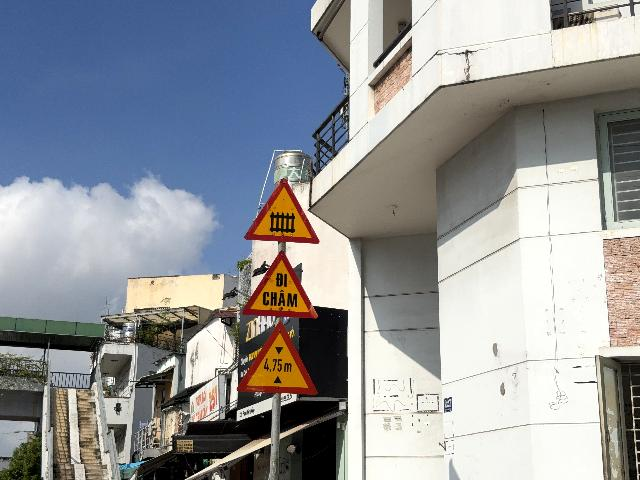chieu-cao-tinh-khong-thuc-te: (237, 320, 318, 395)
di-cham: (242, 250, 317, 319)
noi-giao-nhau-voi-duong-sat-co-rao-chan: (245, 177, 319, 245)
